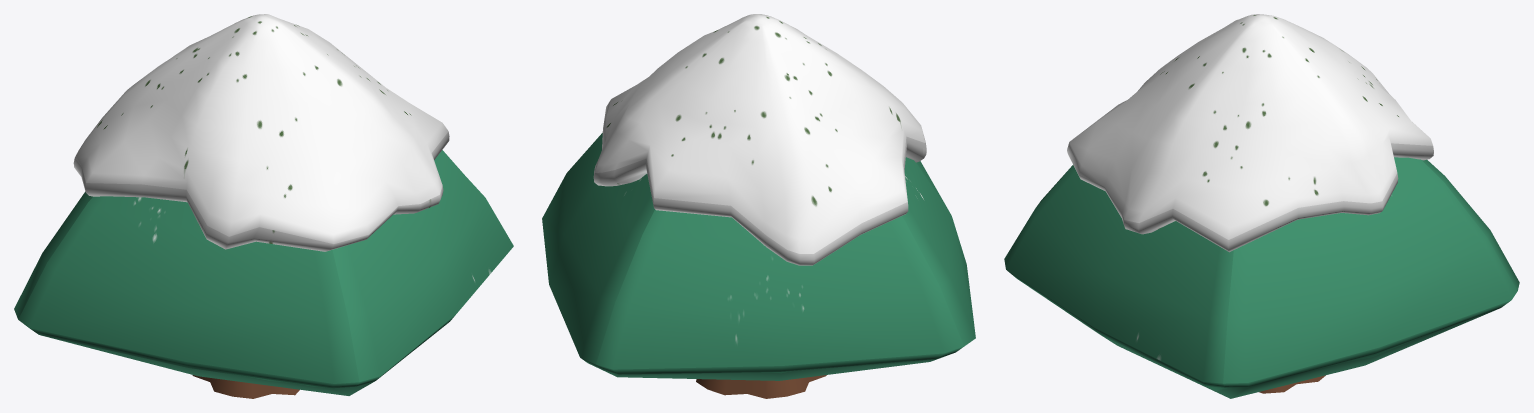
Rendered from Tree_V2.fbx.
The picture shows the model from 3 angles, left to right: view 1: azimuth 30°, elevation 25°; view 2: azimuth 150°, elevation 25°; view 3: azimuth 270°, elevation 25°; orthographic projection.
Visible parts, largest first — view 1: pCylinder2; view 2: pCylinder2; view 3: pCylinder2.
Boxes of the visible parts, x1,y1,x2,y2 form: pCylinder2: [14, 14, 513, 398]; pCylinder2: [542, 14, 975, 398]; pCylinder2: [1004, 14, 1519, 398].
Bounding box in the file's own units: 34.96 × 26.2 × 35.06.
1 material, 1 textured.
